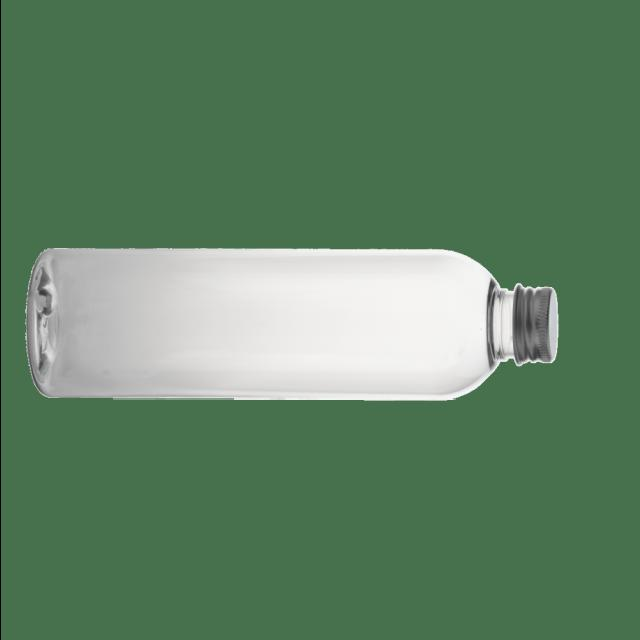bottle: (26, 249, 557, 399)
